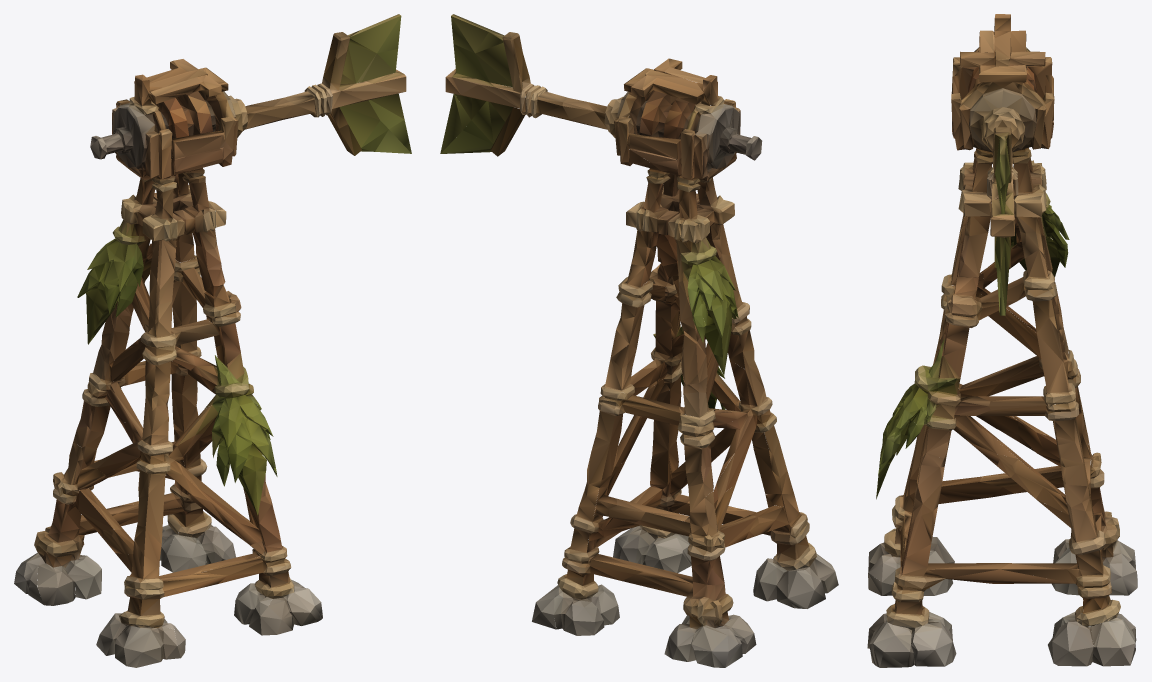
The model's file is building-windmill.glb.
The picture shows the model from 3 angles, left to right: view 1: azimuth 30°, elevation 25°; view 2: azimuth 150°, elevation 25°; view 3: azimuth 270°, elevation 25°; orthographic projection. The views are drawn at different scales.
Visible parts, largest first — view 1: 0_windmill; view 2: 0_windmill; view 3: 0_windmill.
Boxes of the visible parts, box(x1,y1,x2,y2) form: 0_windmill: box(14, 14, 411, 667); 0_windmill: box(440, 14, 838, 667); 0_windmill: box(867, 14, 1137, 667).
Bounding box in the file's own units: 3.84 × 5.67 × 2.36.
